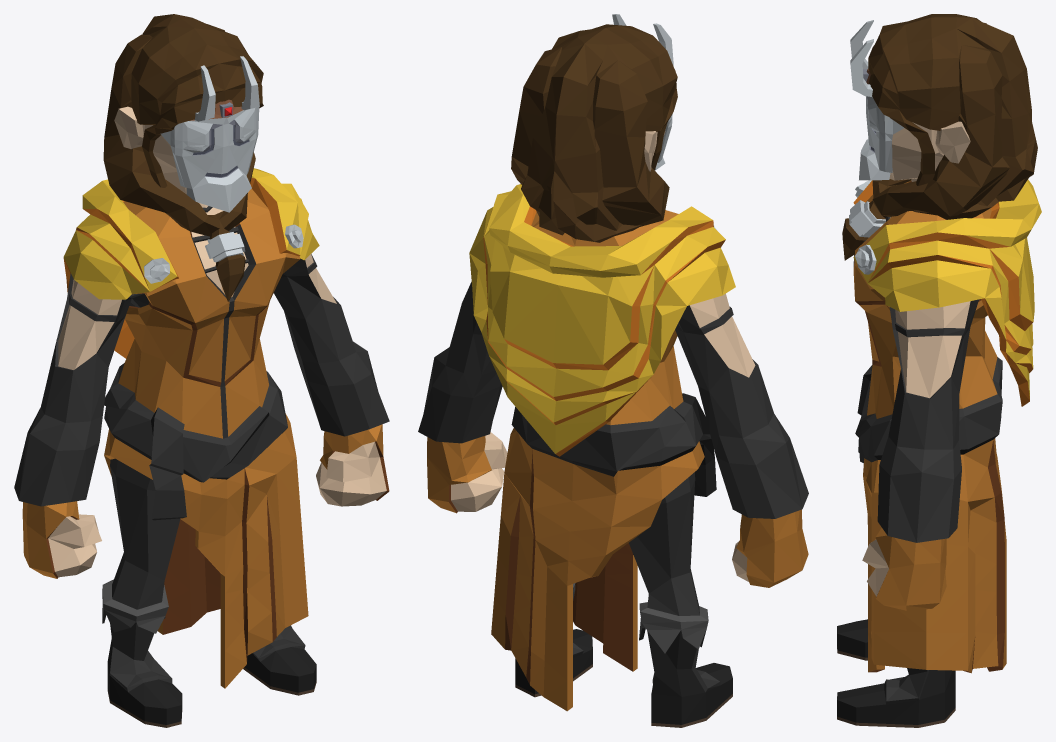
File: priest_dawn.fbx
3 views of the same model, side by side, from view 1: azimuth 30°, elevation 25°; view 2: azimuth 150°, elevation 25°; view 3: azimuth 270°, elevation 25° (orthographic). The views are drawn at different scales.
Parts seen in each view (by area): view 1: base_08_priestessDawn_tri:priestessOfdawn, base_08_priestessDawn_tri:Layer2; view 2: base_08_priestessDawn_tri:priestessOfdawn, base_08_priestessDawn_tri:Layer2; view 3: base_08_priestessDawn_tri:priestessOfdawn, base_08_priestessDawn_tri:Layer2.
Part boxes in pixels (<box>): base_08_priestessDawn_tri:priestessOfdawn: <box>14,14,389,727</box>; base_08_priestessDawn_tri:Layer2: <box>160,56,259,212</box>; base_08_priestessDawn_tri:priestessOfdawn: <box>418,24,808,727</box>; base_08_priestessDawn_tri:Layer2: <box>612,14,673,170</box>; base_08_priestessDawn_tri:priestessOfdawn: <box>837,14,1041,727</box>; base_08_priestessDawn_tri:Layer2: <box>850,20,903,180</box>.
Bounding box in the file's own units: 528 × 896 × 250.
